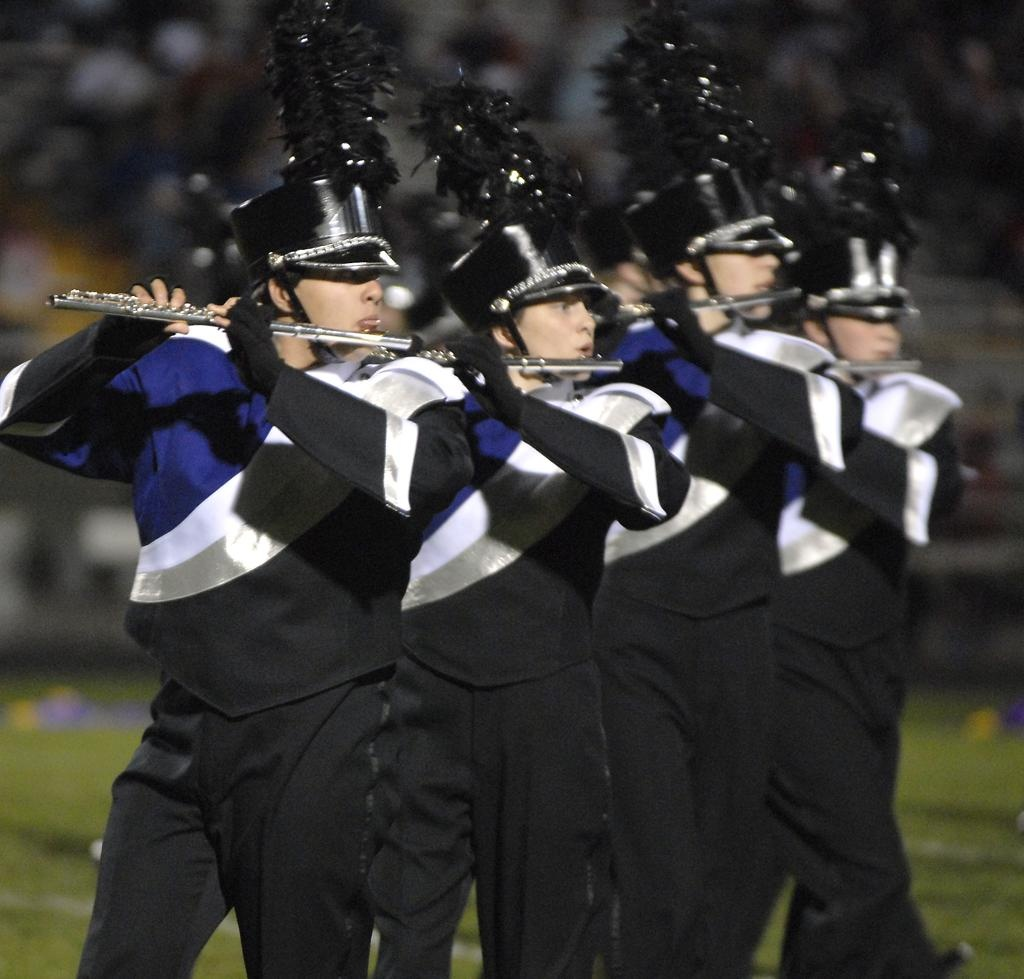human_face: (286, 242, 380, 348), (508, 278, 596, 380), (704, 220, 778, 322), (828, 292, 898, 374)
